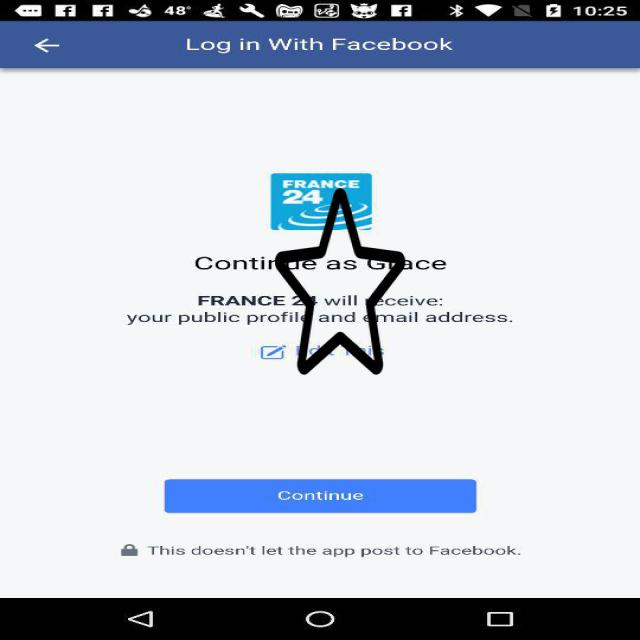forced continuity: (275, 184, 405, 379)
